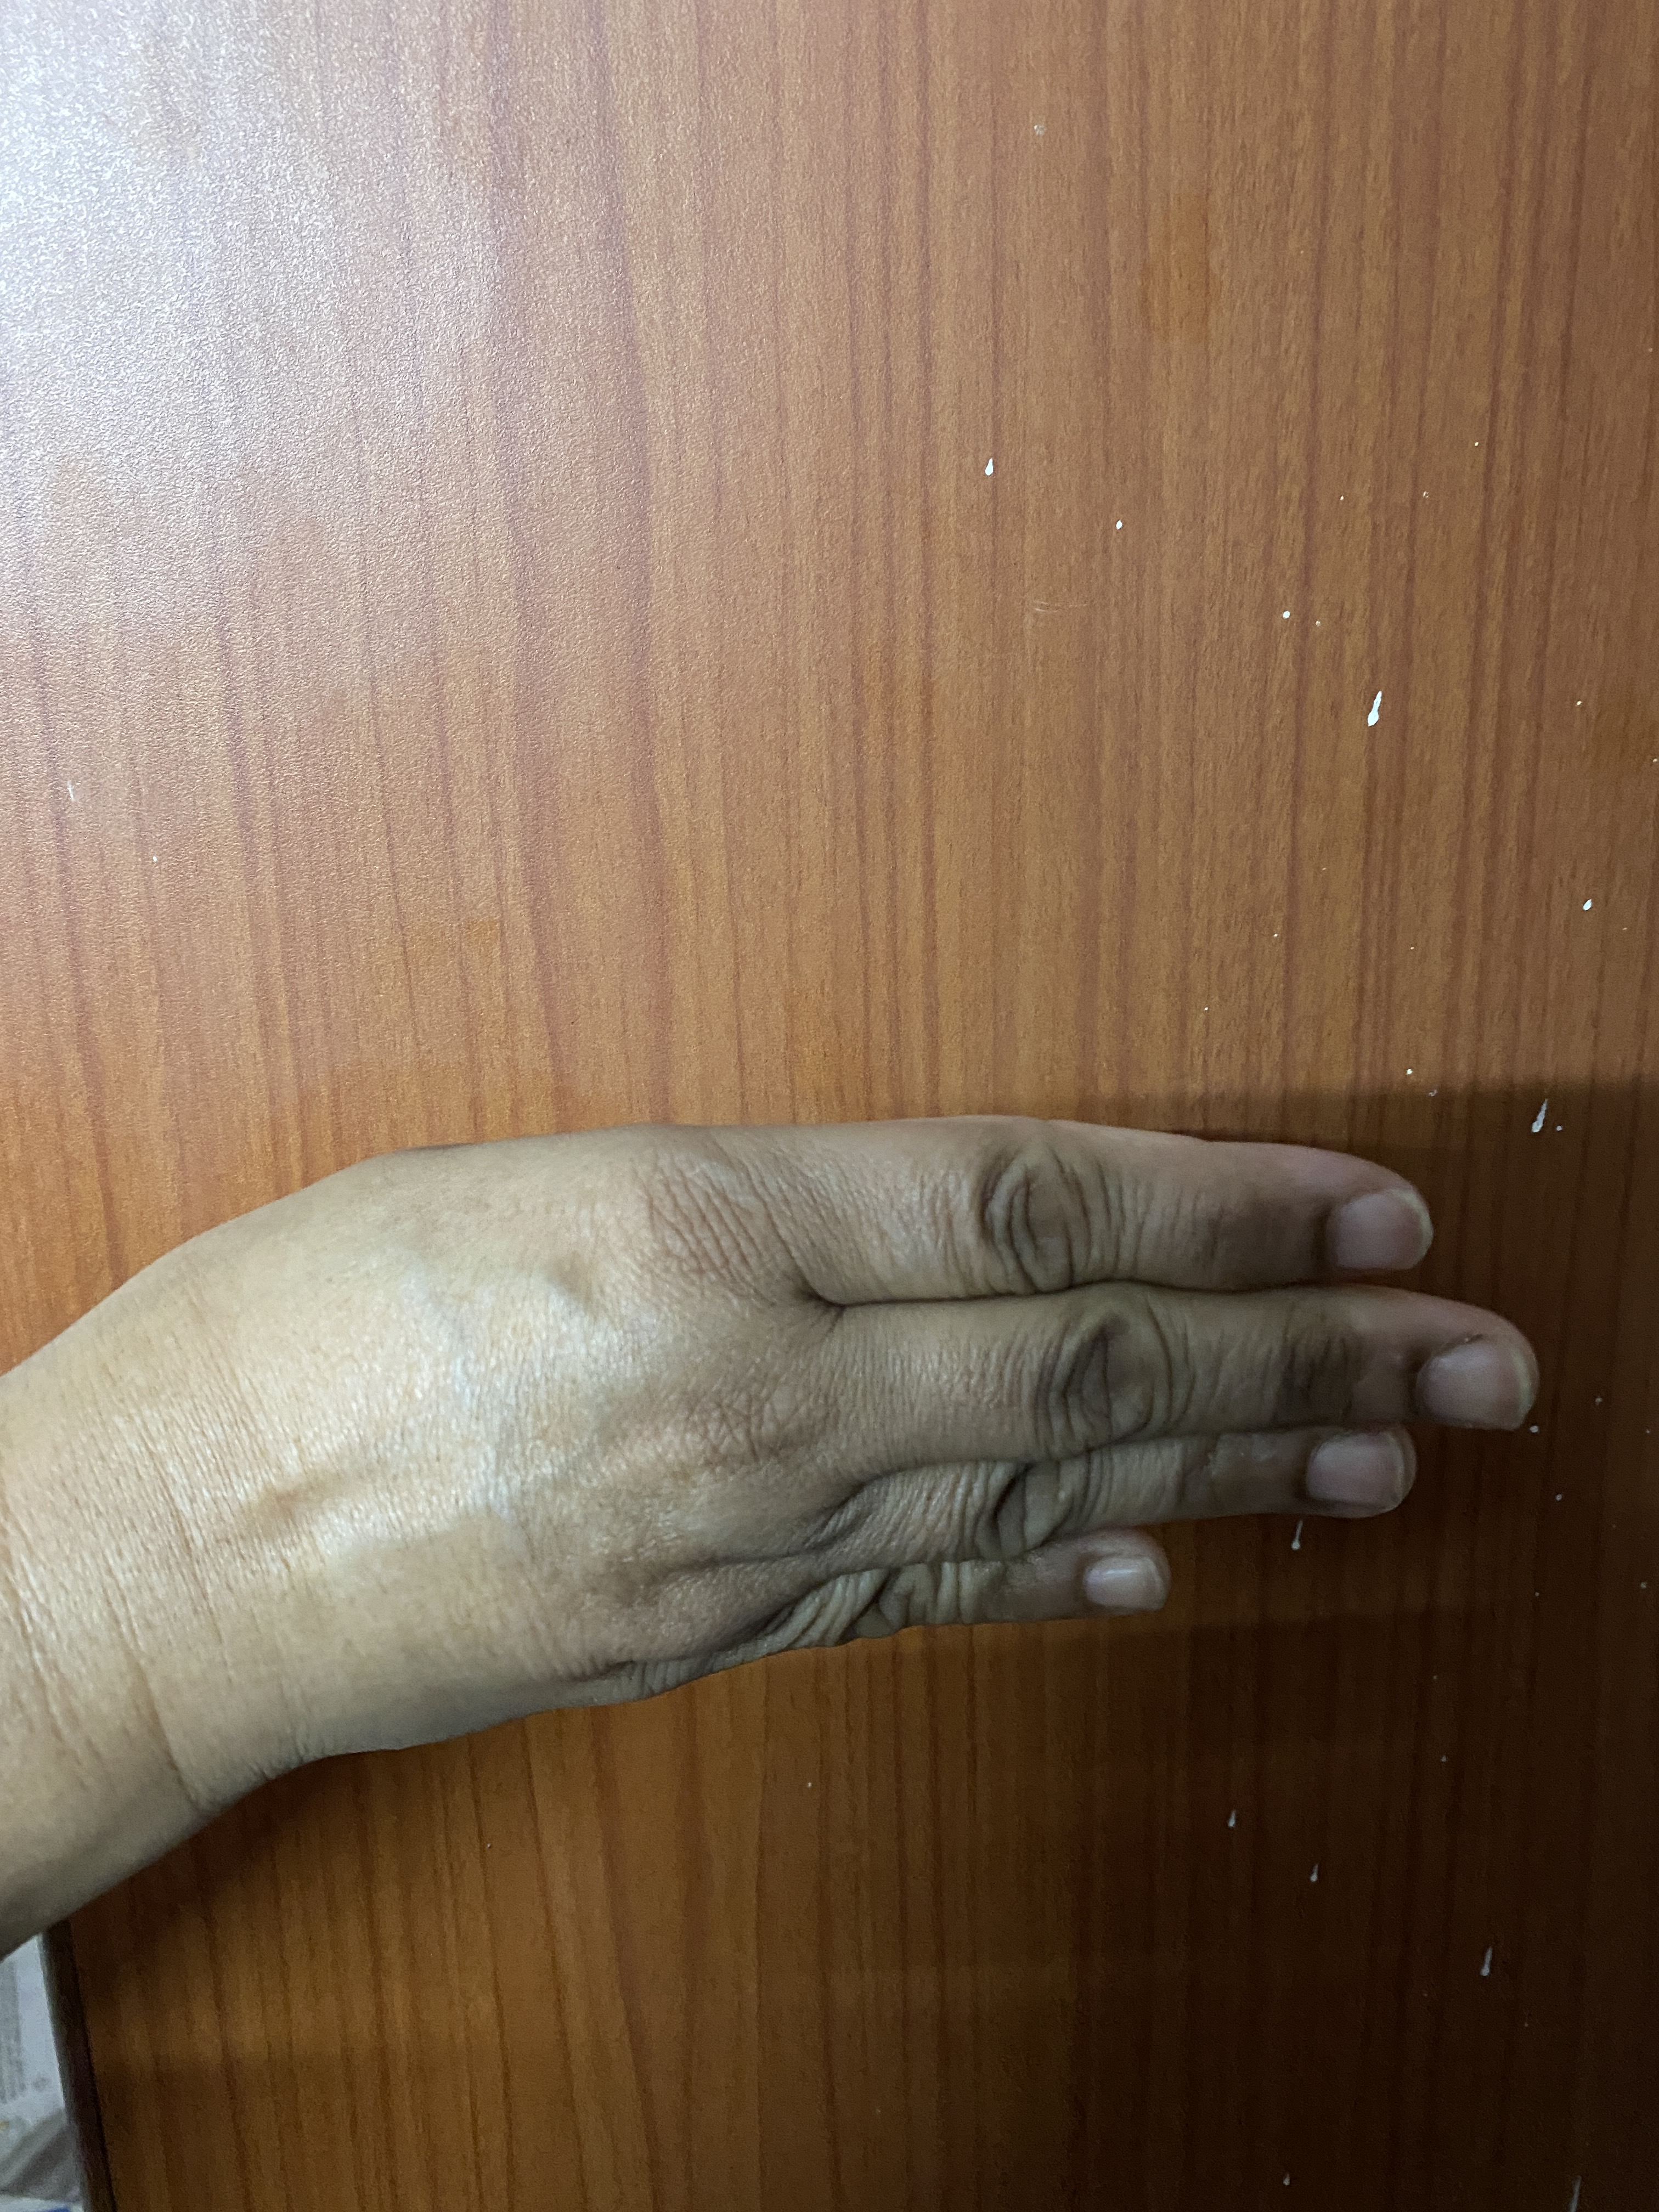left: (2, 1066, 1568, 1989)
